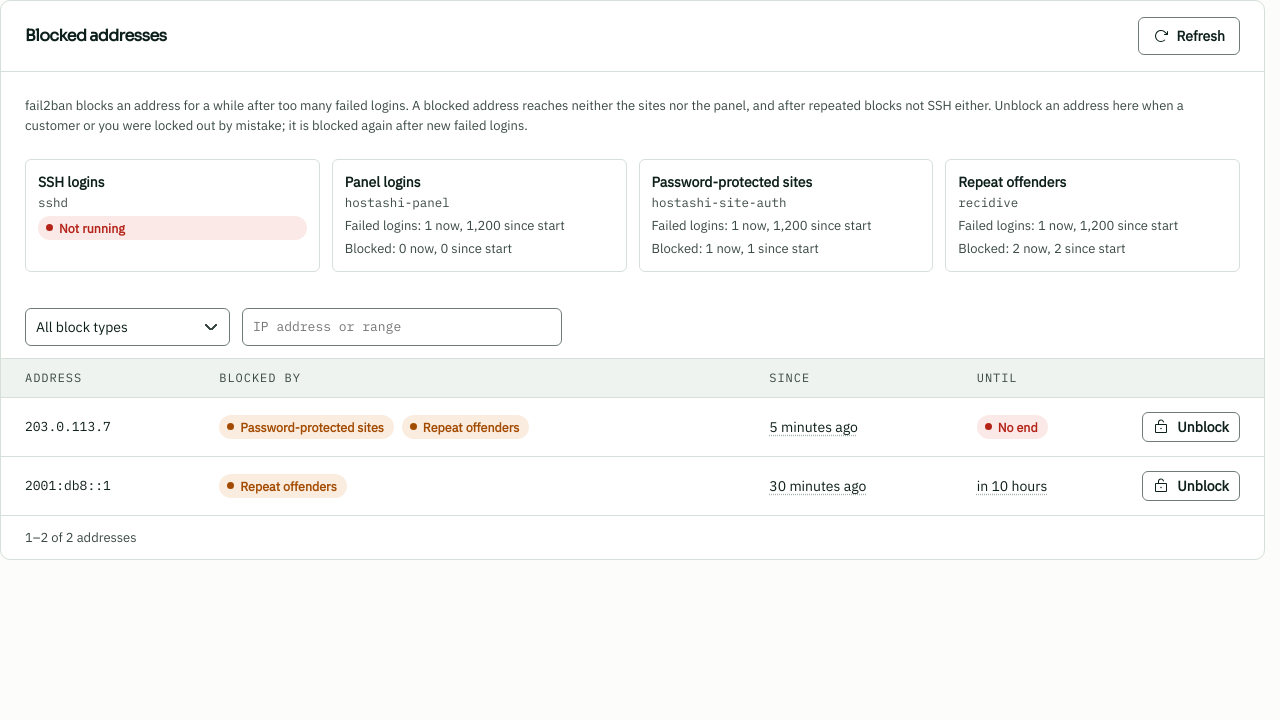
it: BlockedAddressesCard › shows the jails and unblocks an address in every jail
The width and height of the screenshot is (1280, 720).
Expected: the text "Password-protected sites" in the row of "Panel logins" is shown, [652, 173, 812, 191]
Expected: the text "Not running" is shown, [38, 216, 307, 240]
Click the button with aria-label "Unblock 203.0.113.7" at (1191, 427), box [1142, 412, 1240, 442]
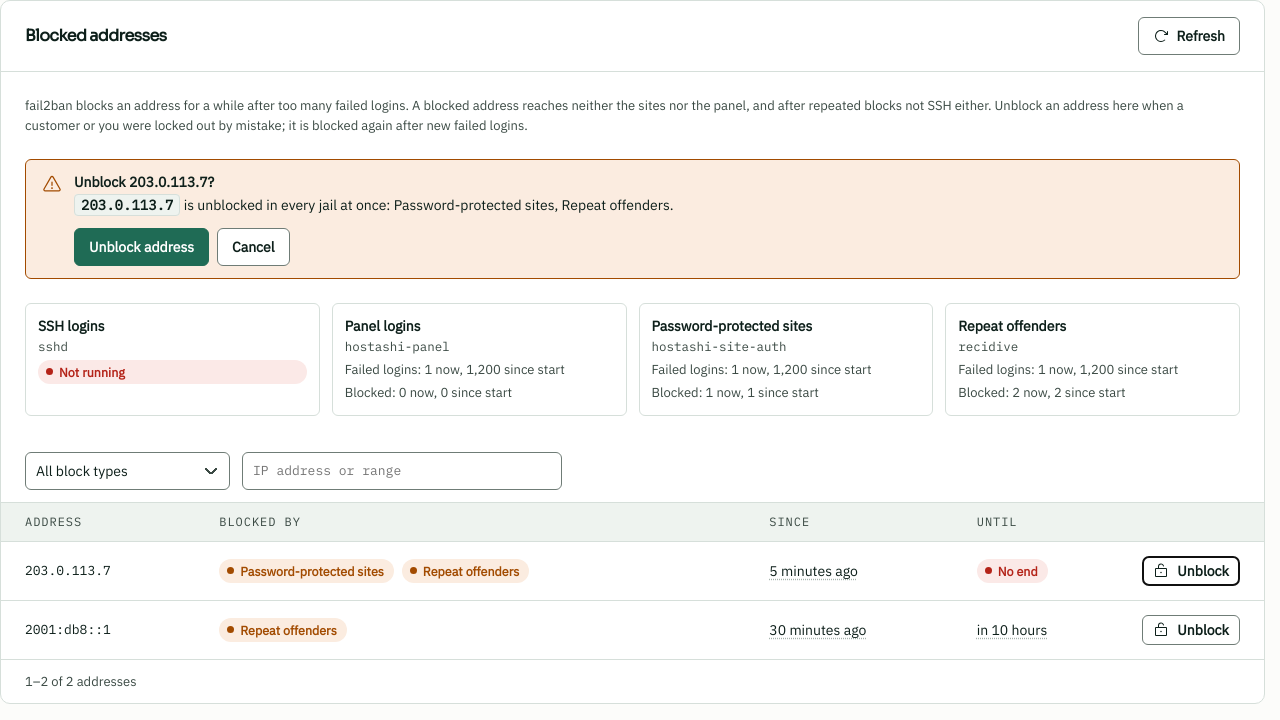
Expected: the text "Unblock 203.0.113.7?" is shown, [74, 173, 214, 191]
Expected: the text "Password-protected sites, Repeat offenders" is shown, [180, 196, 673, 214]
Click the button "Unblock address" at (142, 247), box [74, 228, 209, 266]
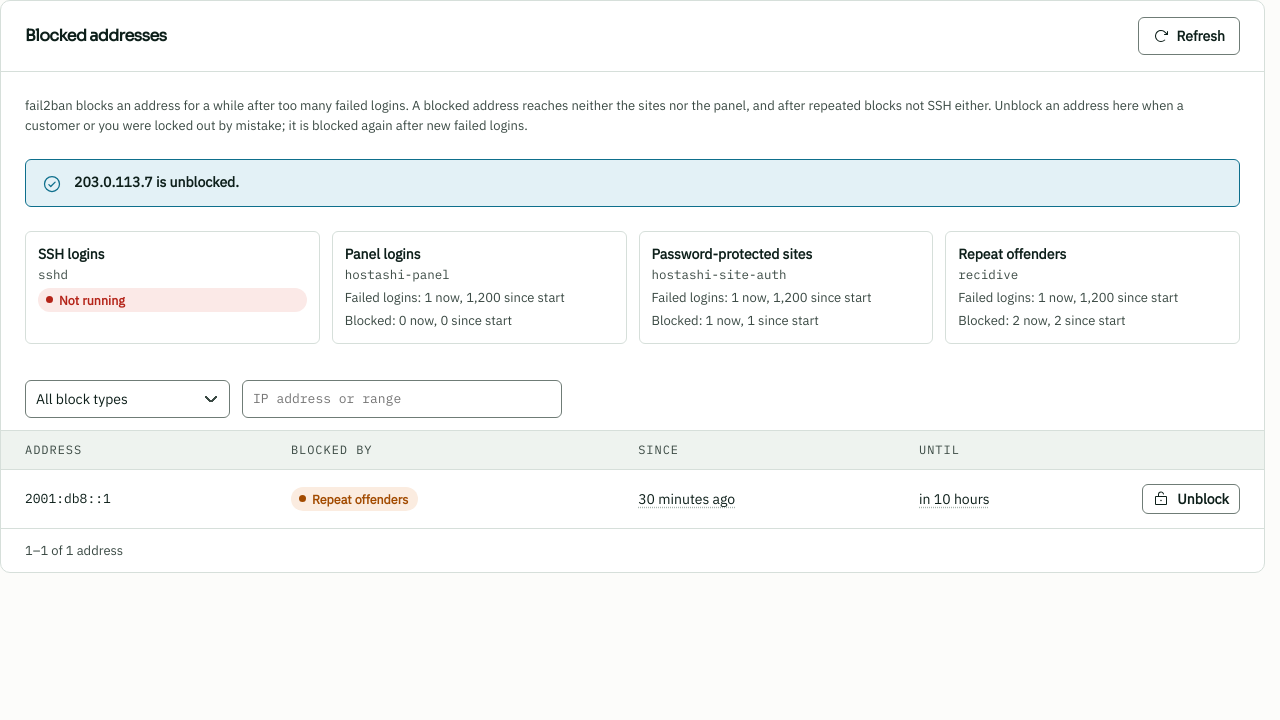
Expected: the text "203.0.113.7 is unblocked." is shown, [74, 172, 239, 193]
Expected: the text "1–1 of 1 address" is shown, [25, 541, 123, 560]
Expected: the text "Unblock 203.0.113.7" is gone
